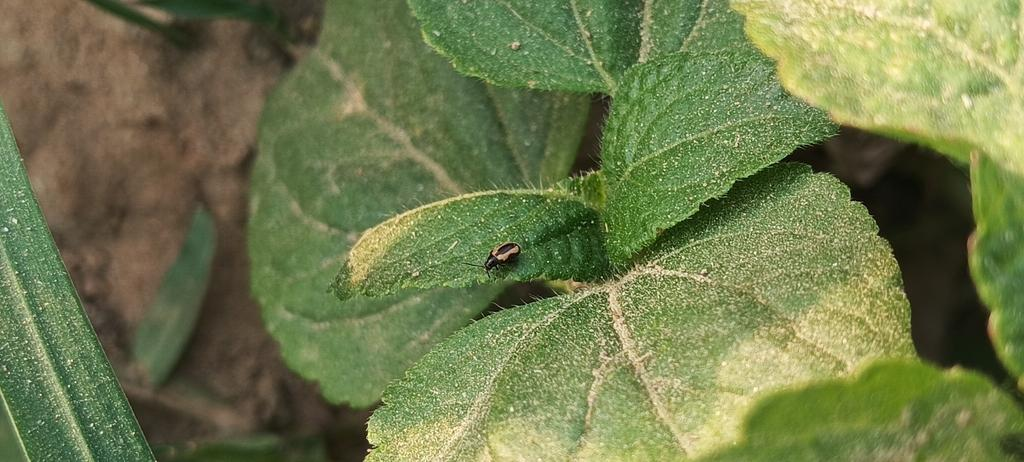flea_beetle: (452, 226, 537, 294)
